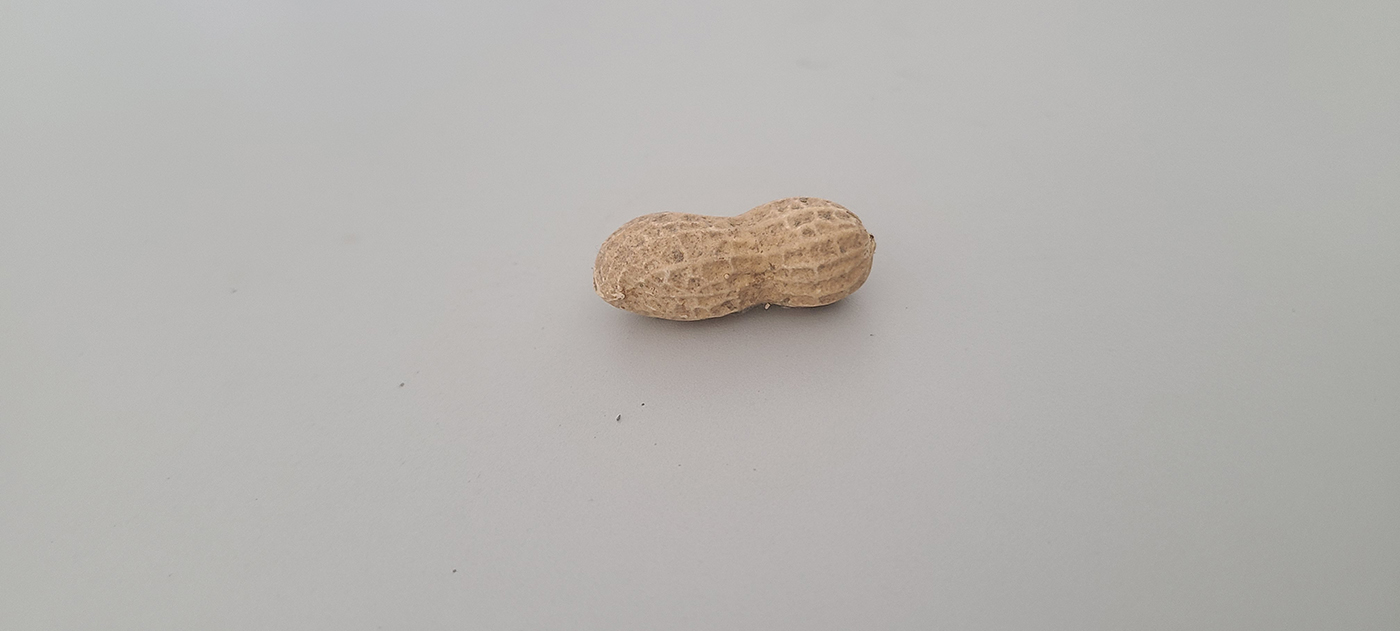h: (594, 193, 877, 324)
